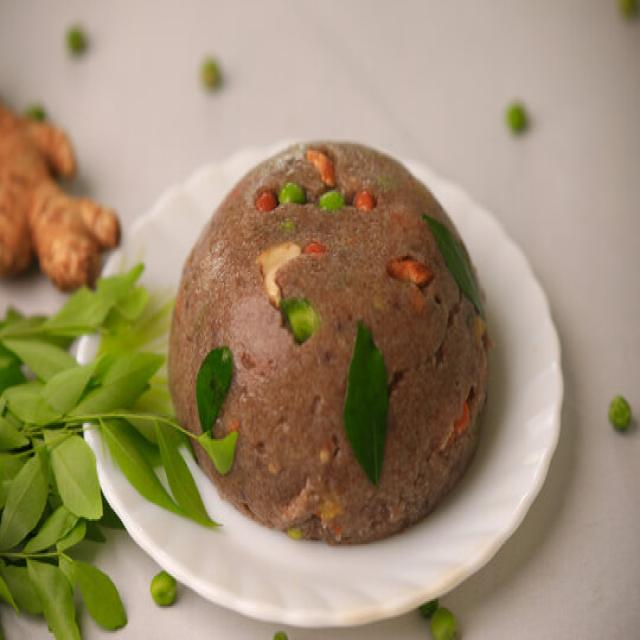UPMA: (169, 144, 488, 544)
